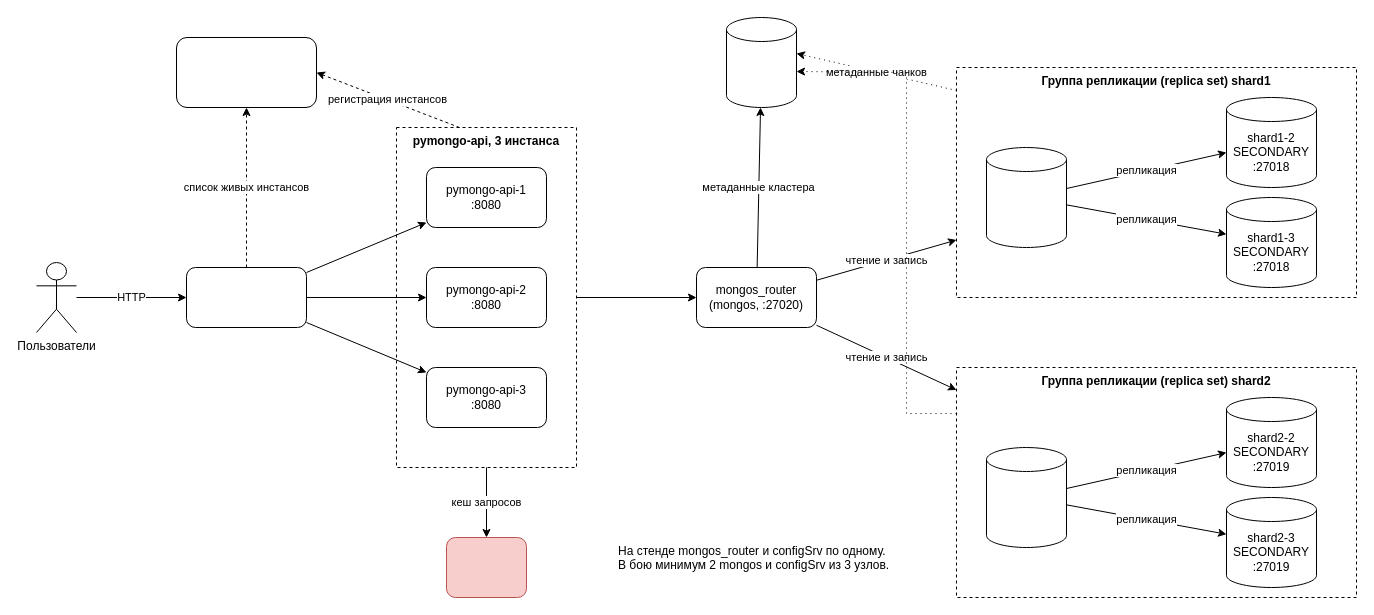
The diagram is 1374 pixels wide and 615 high, and some of its shapes have lost their labels. Here are the shapes that lost their labels. From the top down, the centre of each, then its label:
the point at 246,72: Consul (Service Discovery) кластер из 3 узлов, :8500
the point at 761,62: configSrv :27017
the point at 1026,197: shard1-1 PRIMARY :27018
the point at 246,297: API Gateway (APISIX) 2 инстанса, балансировка
the point at 1026,497: shard2-1 PRIMARY :27019
the point at 486,567: redis :6379
